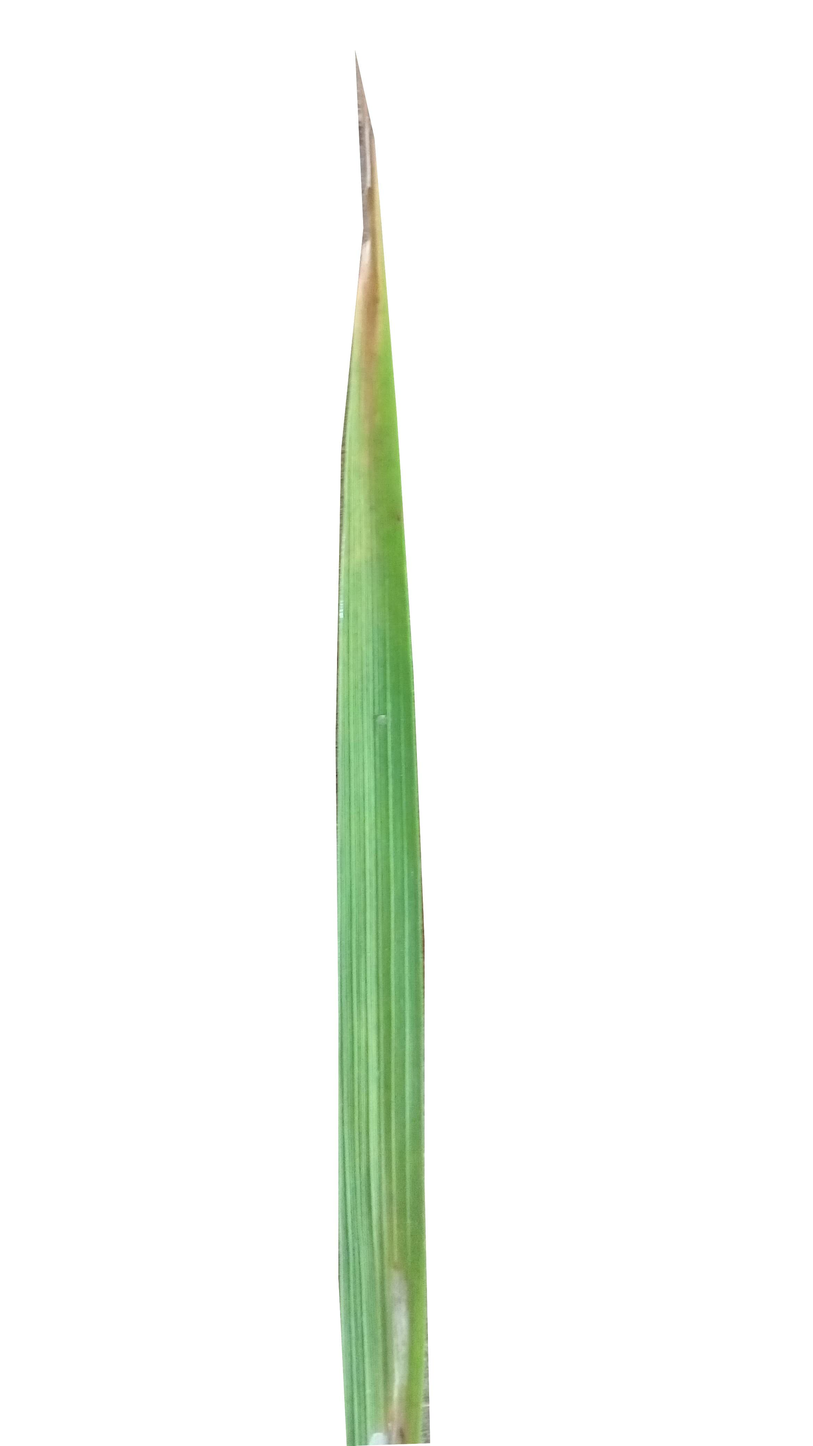Tungro: (341, 247, 411, 601)
